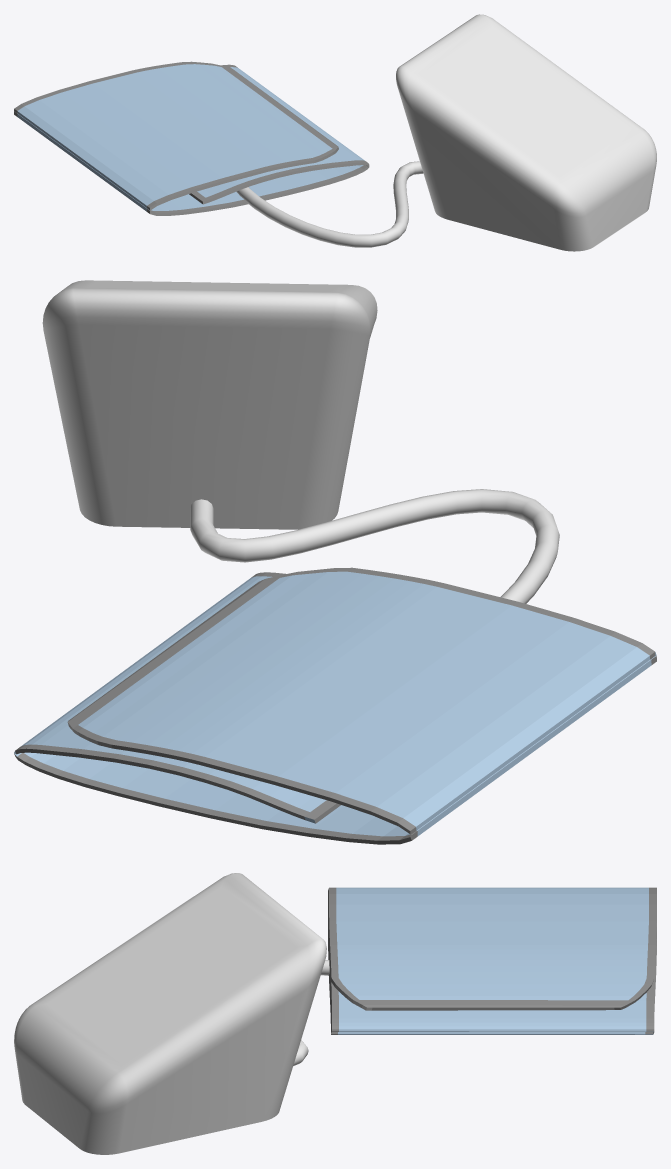
Rendered from Ketsuatsukei.fbx.
The picture shows the model from 3 angles, top to bottom: view 1: azimuth 30°, elevation 25°; view 2: azimuth 150°, elevation 25°; view 3: azimuth 270°, elevation 25°; orthographic projection. The views are drawn at different scales.
Parts seen in each view (by area): view 1: 立方体, ベジエカーブ, ベジエカーブ.001; view 2: ベジエカーブ, 立方体, ベジエカーブ.001; view 3: 立方体, ベジエカーブ.
Boxes of the visible parts, box(x1,y1,x2,y2) form: 立方体: box(396, 14, 656, 251); ベジエカーブ: box(14, 61, 369, 215); ベジエカーブ.001: box(236, 161, 423, 247); ベジエカーブ: box(14, 567, 656, 844); 立方体: box(42, 280, 377, 529); ベジエカーブ.001: box(190, 489, 559, 603); 立方体: box(14, 873, 326, 1154); ベジエカーブ: box(328, 887, 656, 1034).
Size of the model in its own units: 2.95 by 0.9584 by 3.27.
